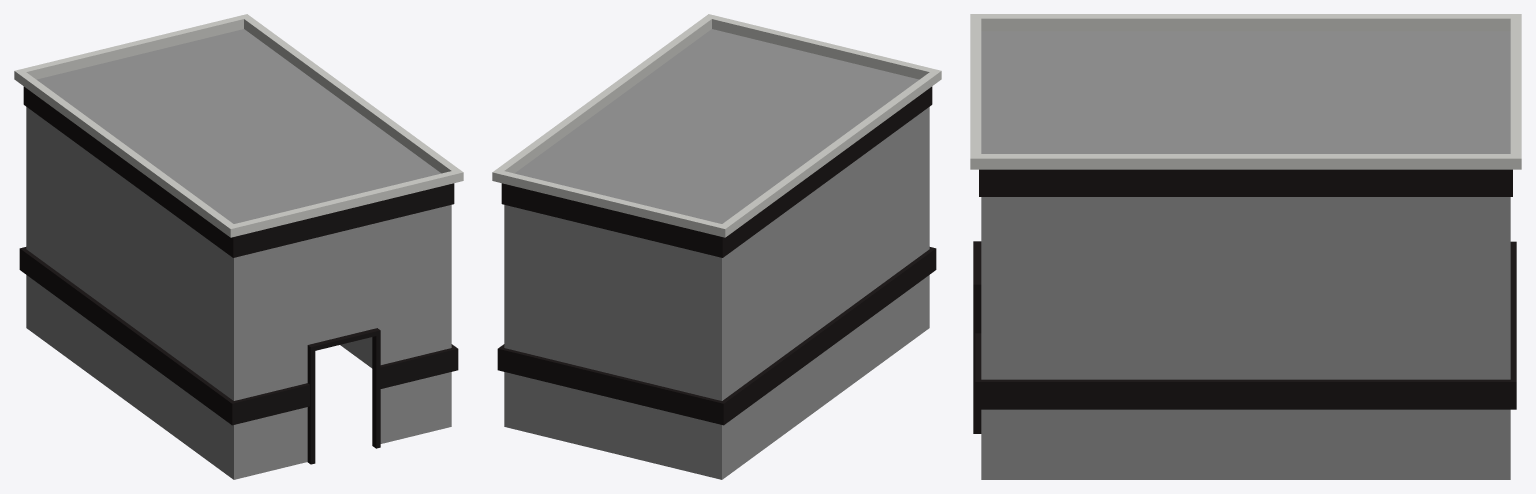
The model's file is SM_bld_block_03.fbx.
3 views of the same model, side by side, from view 1: azimuth 30°, elevation 25°; view 2: azimuth 150°, elevation 25°; view 3: azimuth 270°, elevation 25° (orthographic). The views are drawn at different scales.
Parts seen in each view (by area): view 1: bld_block_03; view 2: bld_block_03; view 3: bld_block_03.
Boxes of the visible parts, x1,y1,x2,y2 form: bld_block_03: [14, 14, 463, 479]; bld_block_03: [492, 14, 941, 479]; bld_block_03: [970, 14, 1521, 479].
Bounding box in the file's own units: 461 × 485 × 742.
